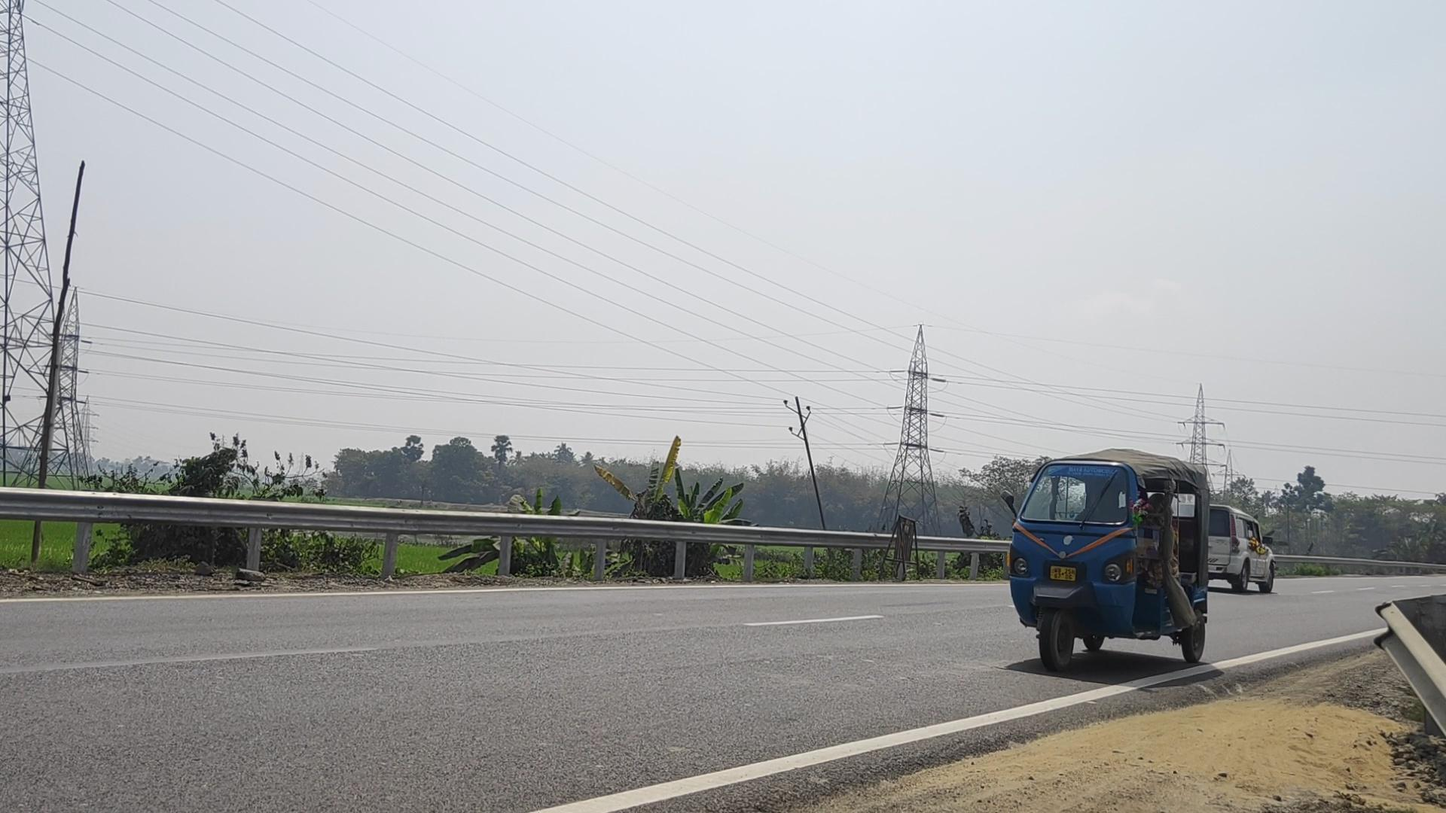Auto: (1001, 448, 1210, 673)
car: (1178, 502, 1275, 594)
